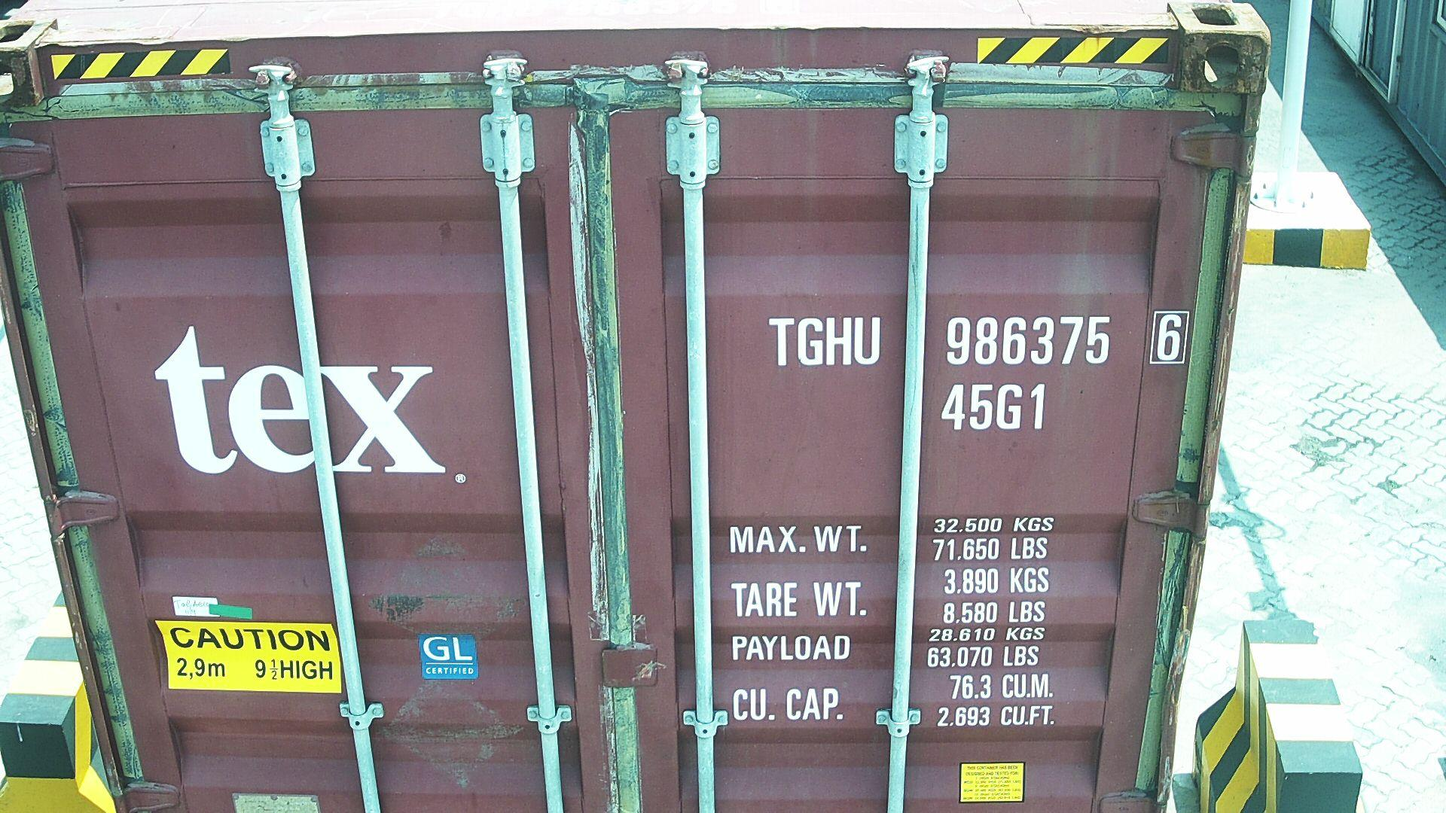container-numbers: (767, 308, 1192, 373), (936, 379, 1051, 435)
